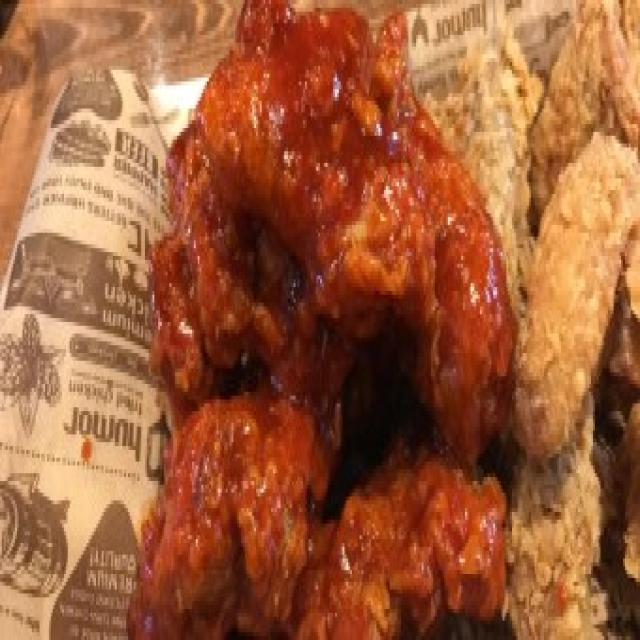Frango: (123, 3, 517, 640), (448, 0, 640, 640)
